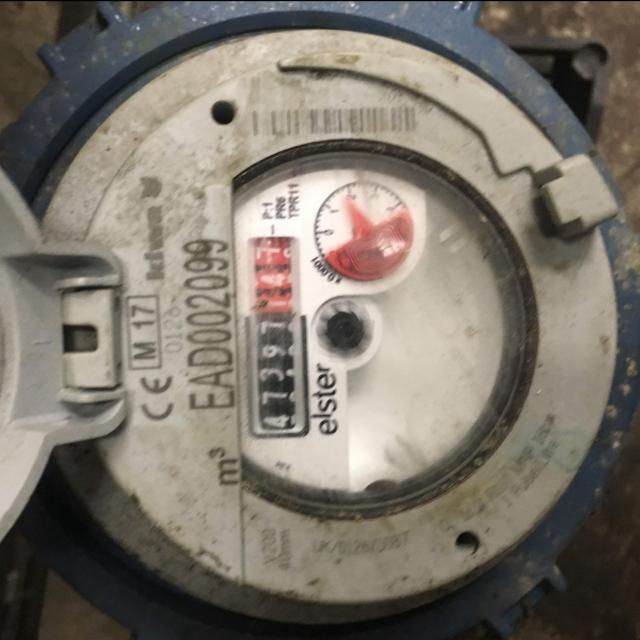gaz_meter: (41, 27, 618, 605)
indication: (246, 239, 309, 437)
